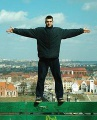male: (44, 14, 57, 29)
